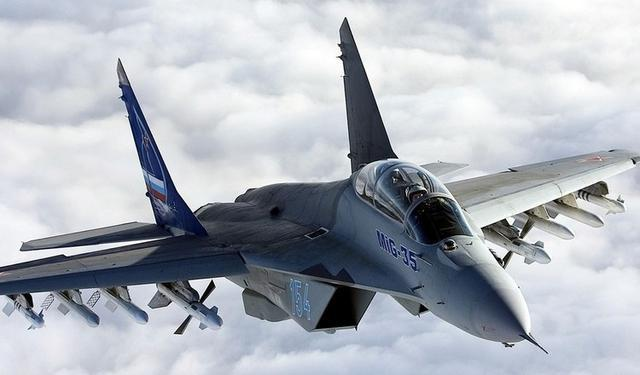airplane: (1, 13, 640, 350)
